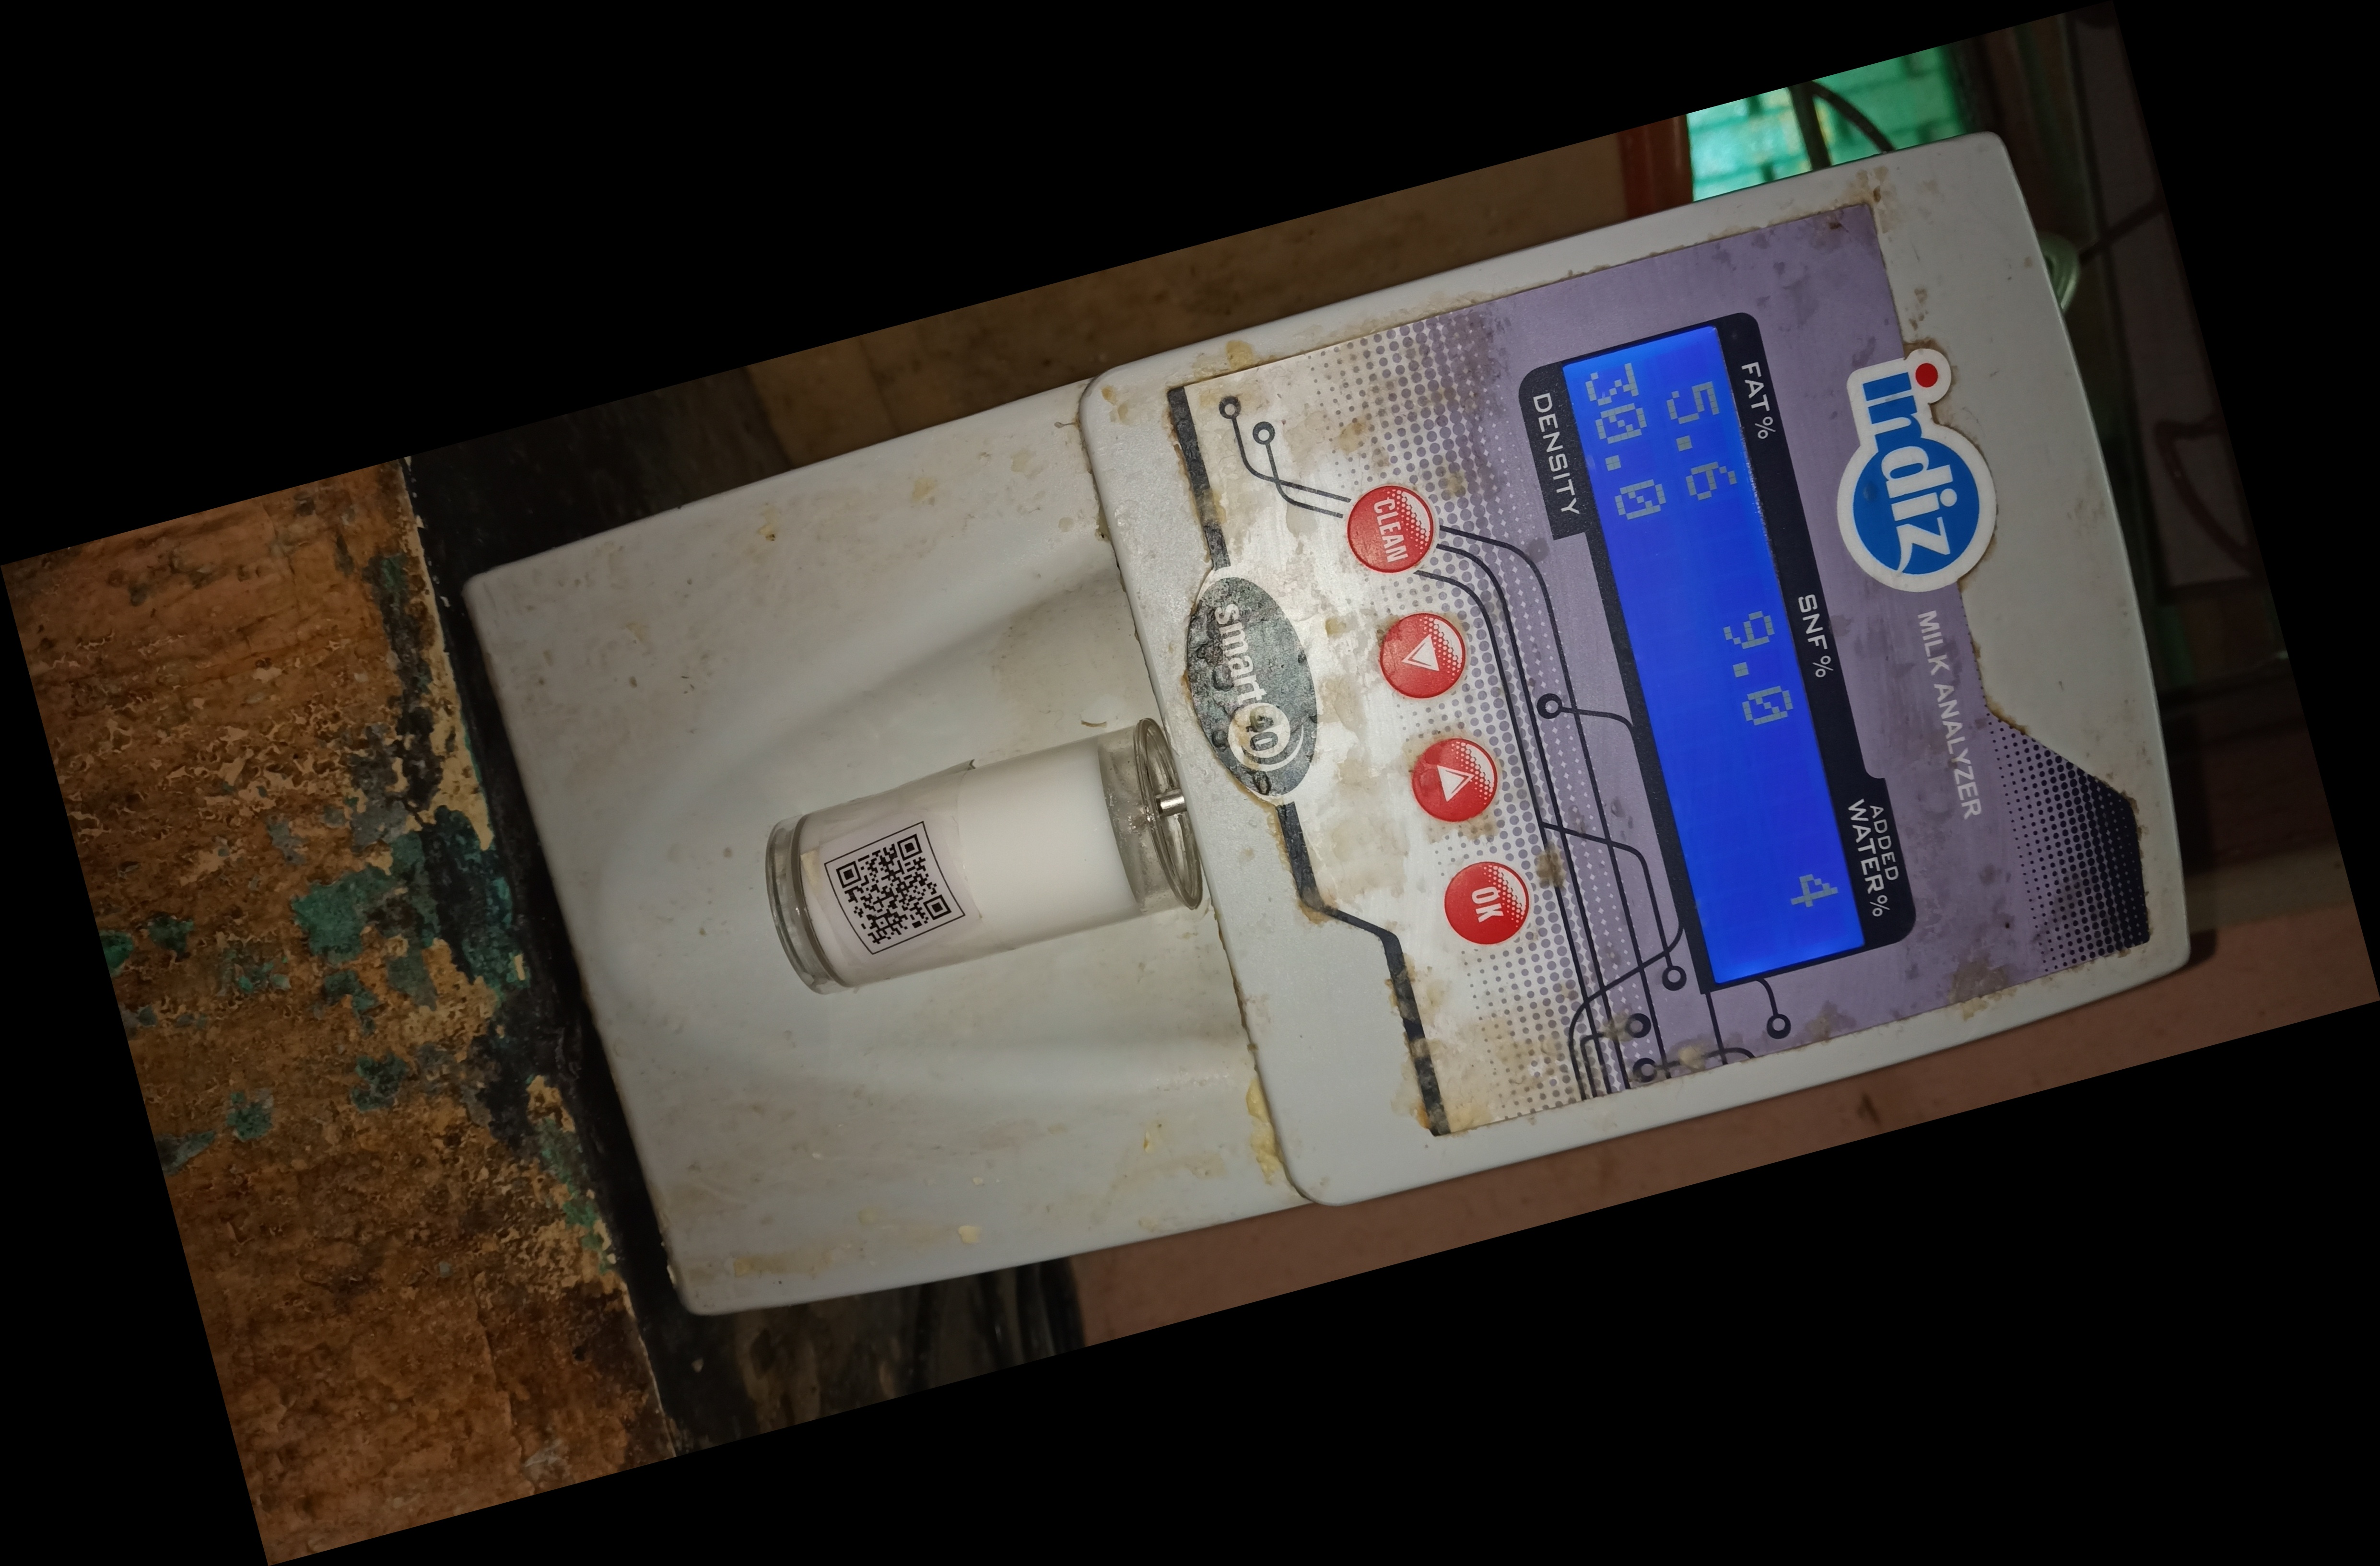lcd: (1520, 292, 1940, 1010)
qr: (813, 814, 973, 961)
